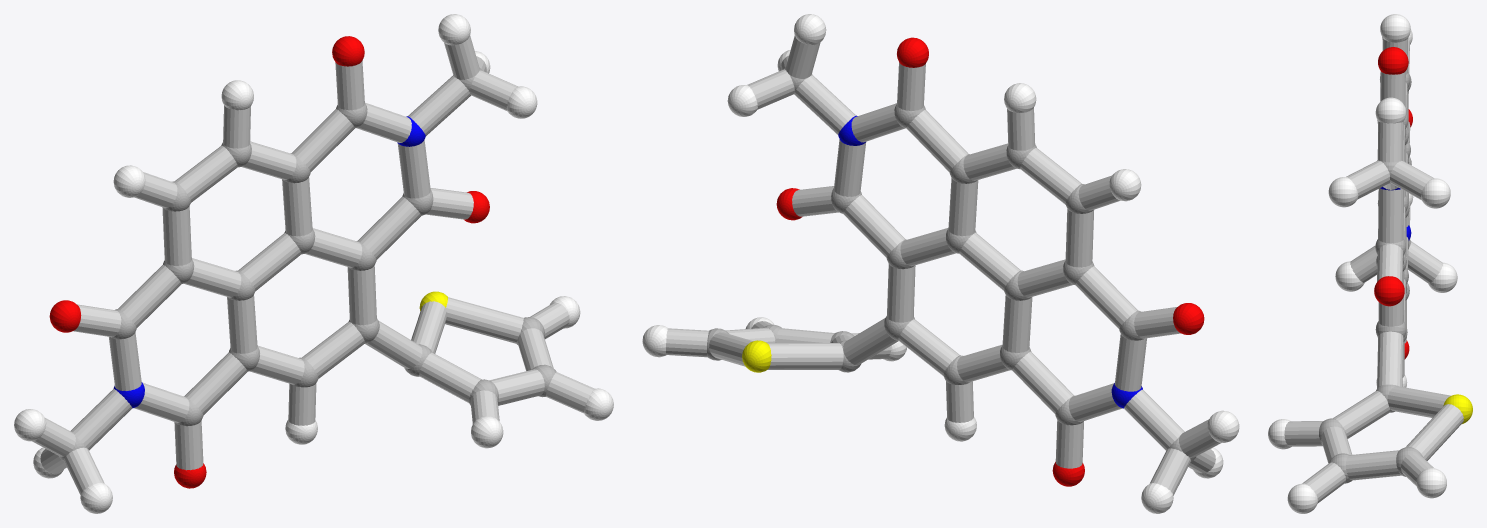
Rendered from Dimethyl_Naphthalene_Dicarboximide_Phi_30_Theta_110_Thiophene.glb.
The picture shows the model from 3 angles, left to right: view 1: azimuth 30°, elevation 25°; view 2: azimuth 150°, elevation 25°; view 3: azimuth 270°, elevation 25°; orthographic projection. The views are drawn at different scales.
Parts seen in each view (by area): view 1: grp14119, grp7241, grp1, grp12309, grp11585; view 2: grp14119, grp7241, grp1, grp12309, grp13757, grp11585; view 3: grp14119, grp7241, grp1, grp12309, grp13757.
Boxes of the visible parts, x1,y1,x2,y2 form: grp14119: (32,35,594,494); grp7241: (14,14,613,513); grp1: (59,68,556,460); grp12309: (49,36,489,488); grp11585: (113,116,425,408); grp14119: (666,35,1221,495); grp7241: (642,14,1239,513); grp1: (707,67,1196,461); grp12309: (776,37,1204,486); grp13757: (742,340,771,372); grp11585: (838,115,1142,408); grp14119: (1284,38,1463,503); grp7241: (1268,14,1457,513); grp1: (1319,72,1423,483); grp12309: (1374,47,1412,359); grp13757: (1443,394,1472,423).
Bounding box in the file's own units: 12.3 × 8.34 × 4.01.
